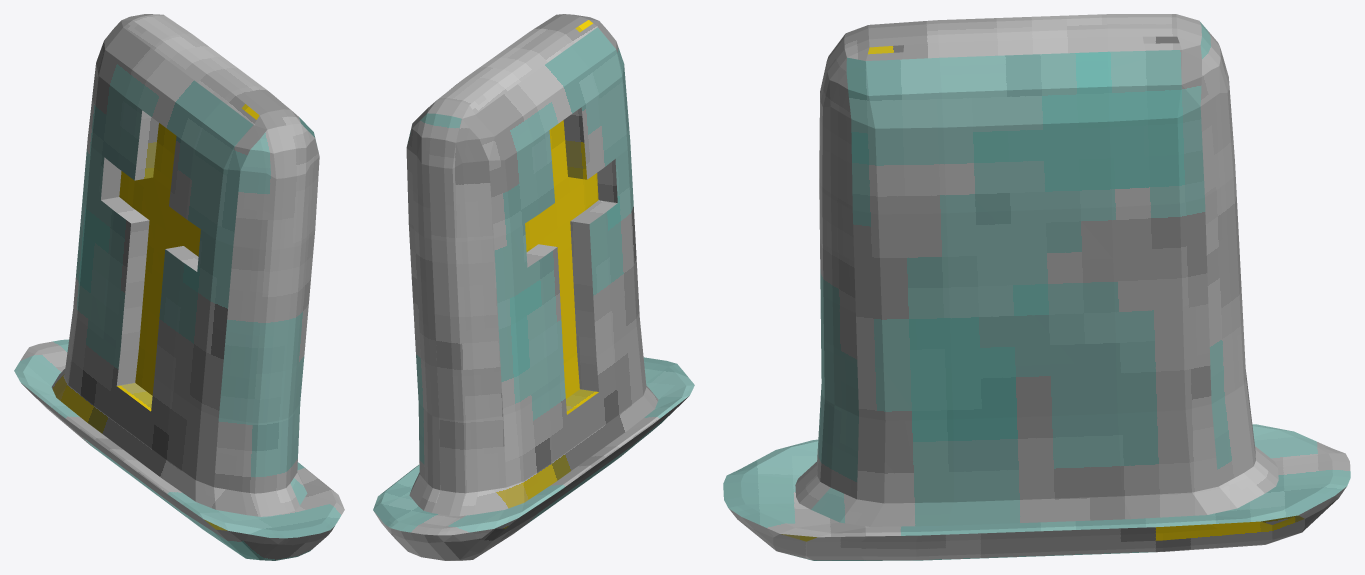
File: Tomb.gltf
3 renders of one model, left to right at view 1: azimuth 30°, elevation 25°; view 2: azimuth 150°, elevation 25°; view 3: azimuth 270°, elevation 25°, orthographic. The views are drawn at different scales.
Parts seen in each view (by area): view 1: tomb; view 2: tomb; view 3: tomb.
Part boxes in pixels (x1,y1,x2,y2): tomb: (14,14,344,560); tomb: (373,14,694,560); tomb: (723,14,1350,560).
Size of the model in its own units: 1.88 by 5.32 by 5.58.
Materials: 1 (1 with a texture image).
